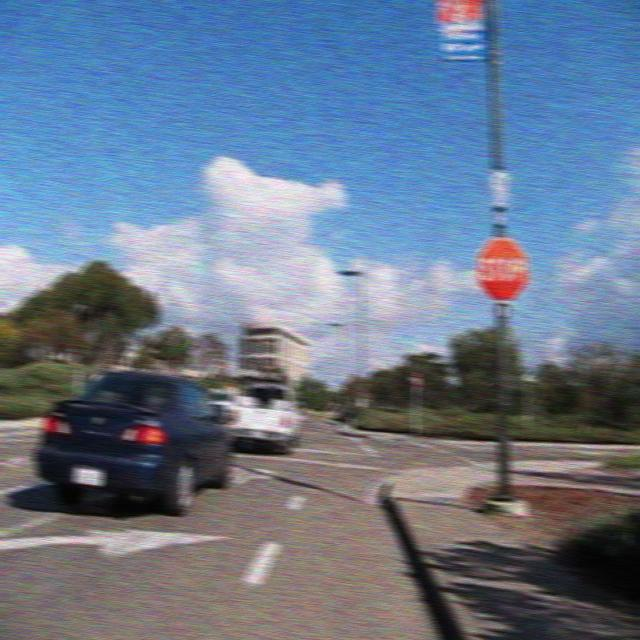stop: (476, 236, 530, 301)
